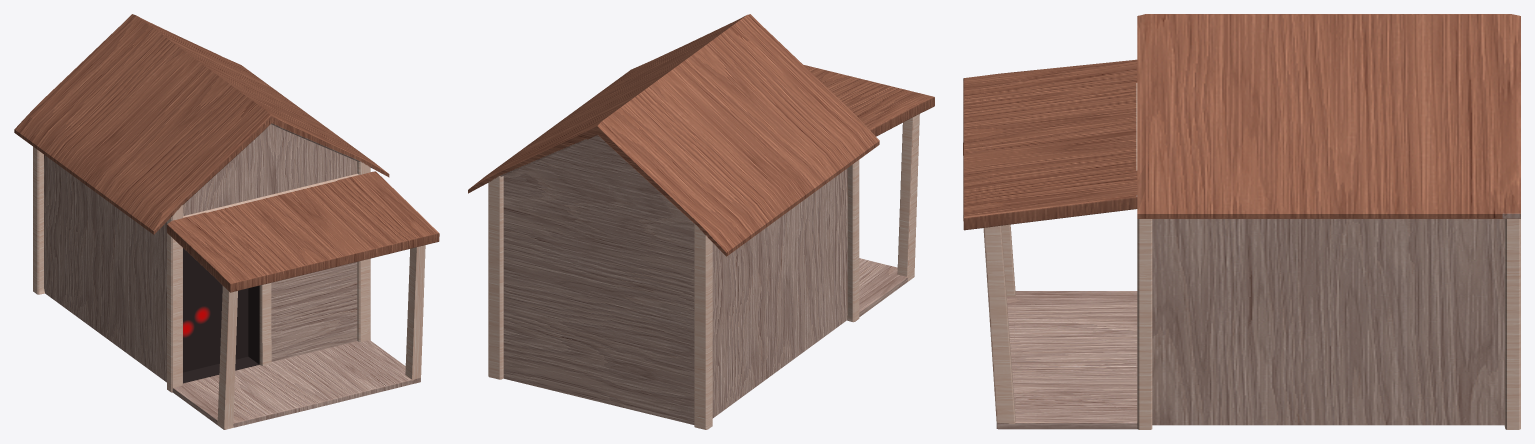
Rendered from Dog_House_01.fbx.
The picture shows the model from 3 angles, left to right: view 1: azimuth 30°, elevation 25°; view 2: azimuth 150°, elevation 25°; view 3: azimuth 270°, elevation 25°; orthographic projection. The views are drawn at different scales.
Parts seen in each view (by area): view 1: Dog_House_01; view 2: Dog_House_01; view 3: Dog_House_01.
Boxes of the visible parts, left/top/right/bottom form: Dog_House_01: left=14, top=14, right=439, bottom=429; Dog_House_01: left=468, top=14, right=934, bottom=429; Dog_House_01: left=963, top=14, right=1520, bottom=429.
Bounding box in the file's own units: 6.21 × 6.41 × 9.28.
